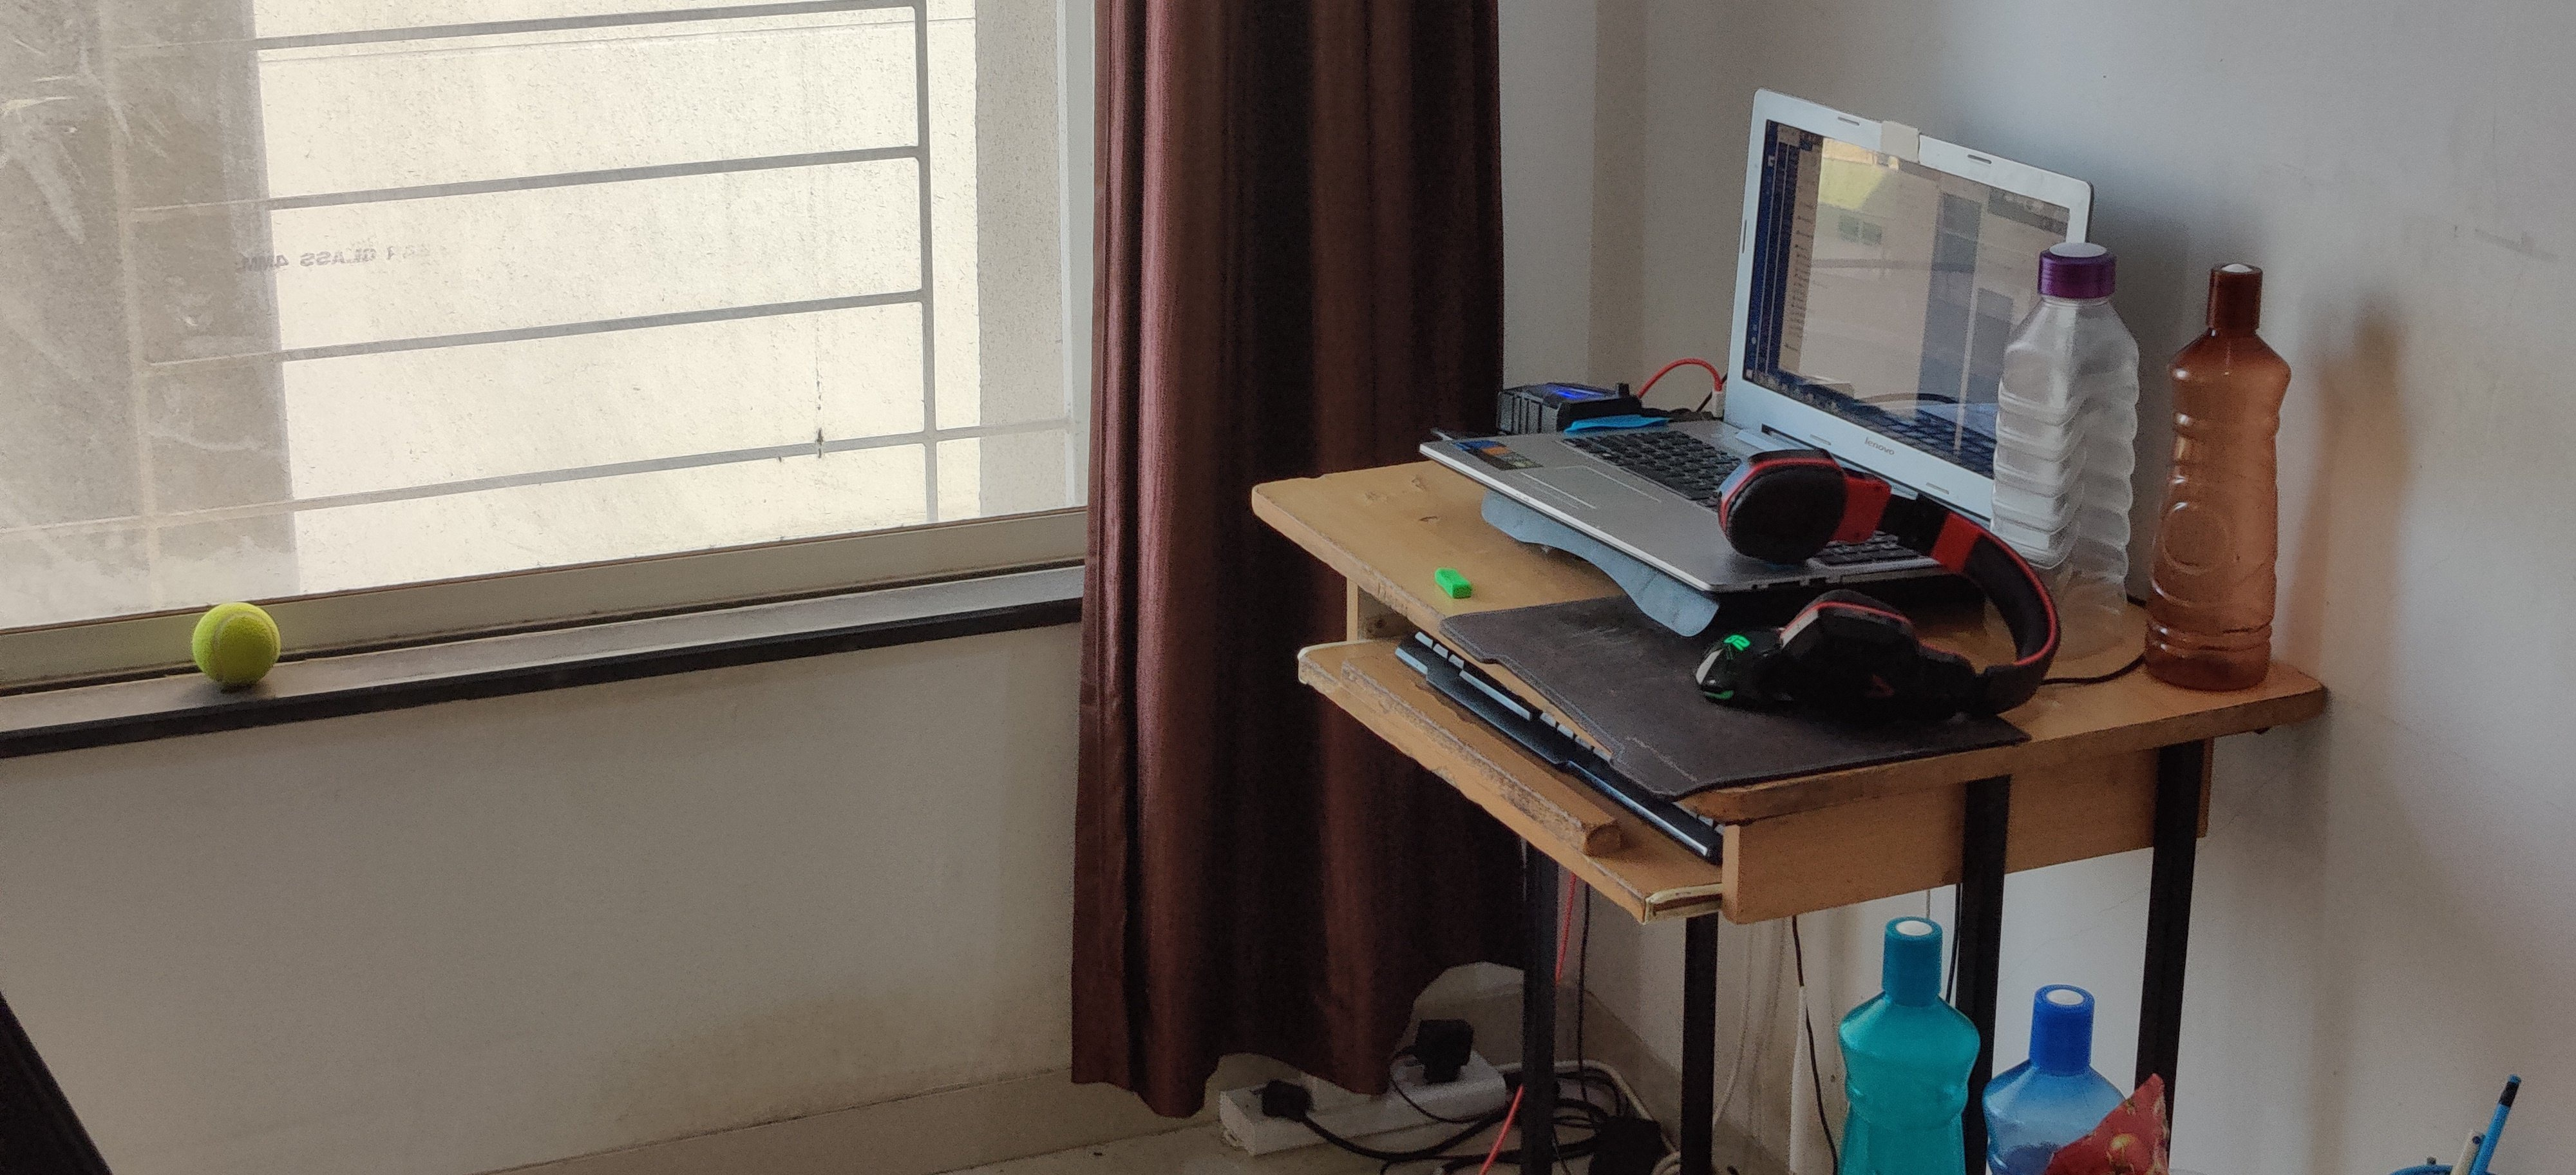Tennis-Ball: (192, 602, 281, 686)
